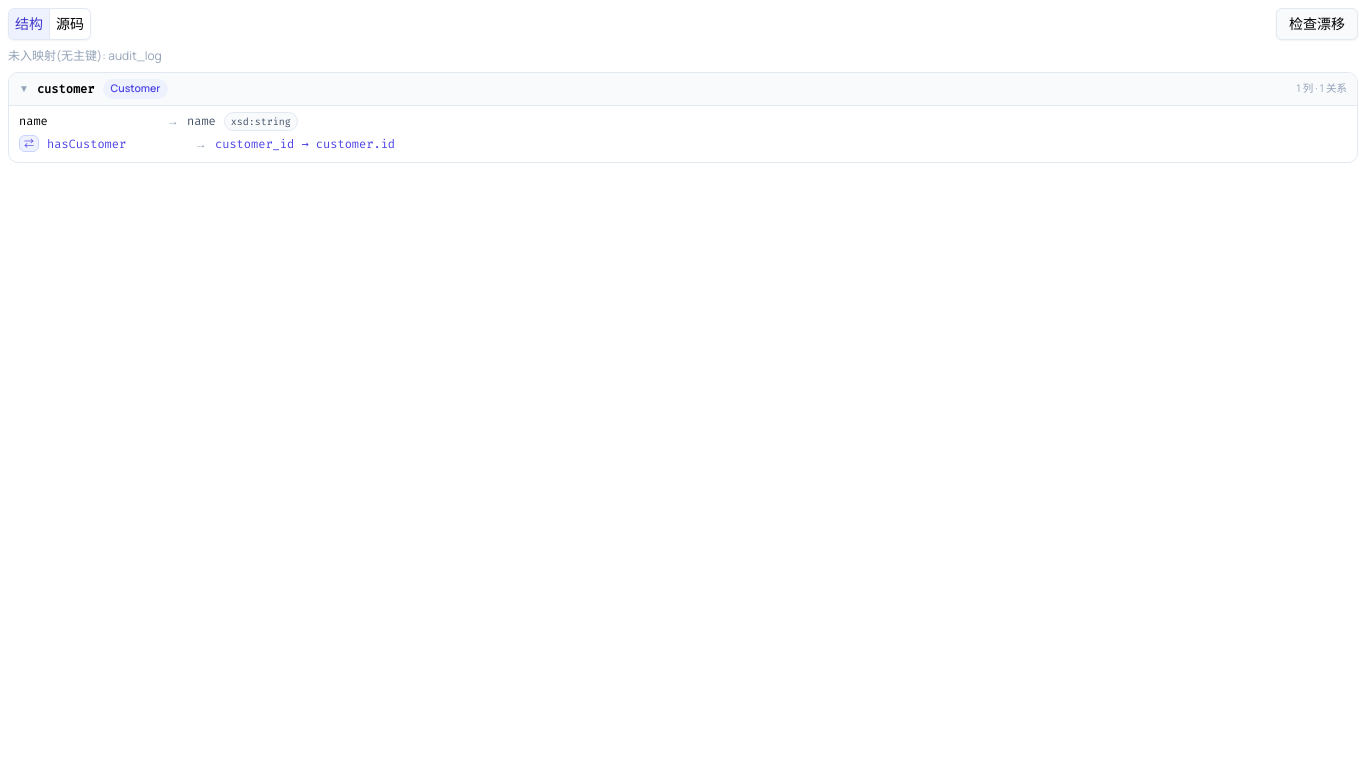
it: R2rmlPage drift check › opens the connection picker when the row has none
Click the button "检查漂移": (1317, 24) [1276, 8, 1358, 40]
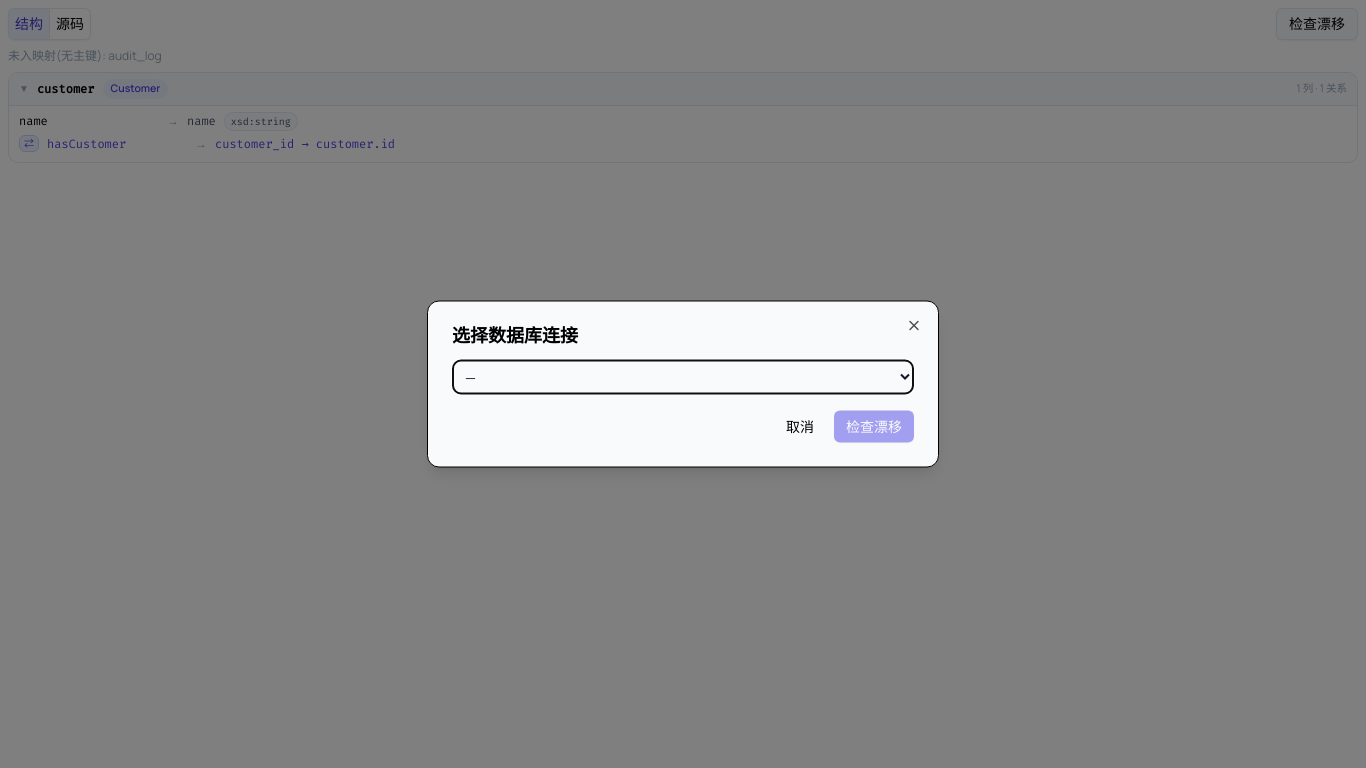
Select "🔒 shop · sqlite" in the dropdown named "数据库连接": (683, 377) [452, 360, 914, 394]
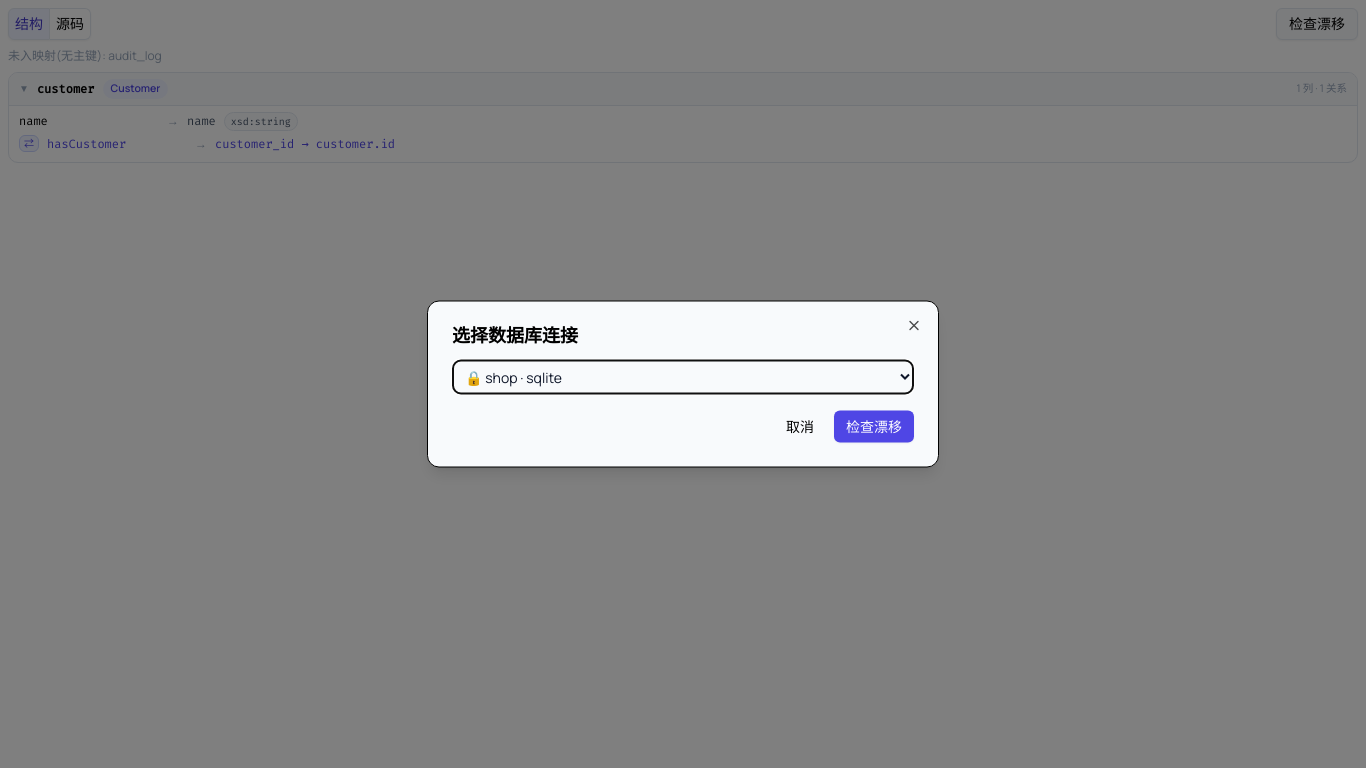
Click the button "检查漂移": (874, 426) [834, 410, 914, 442]
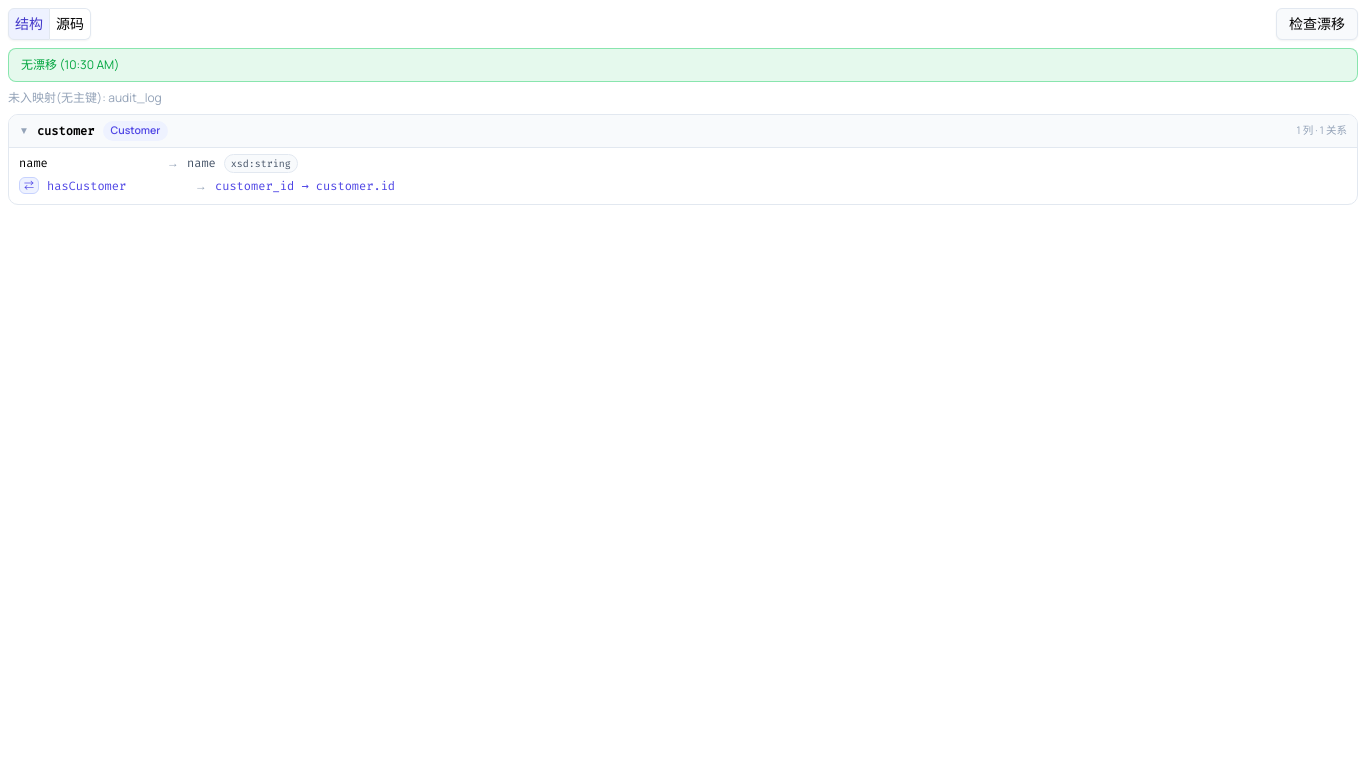
expect the text "无漂移 (10:30 AM)" is shown: met, box [21, 56, 119, 73]
